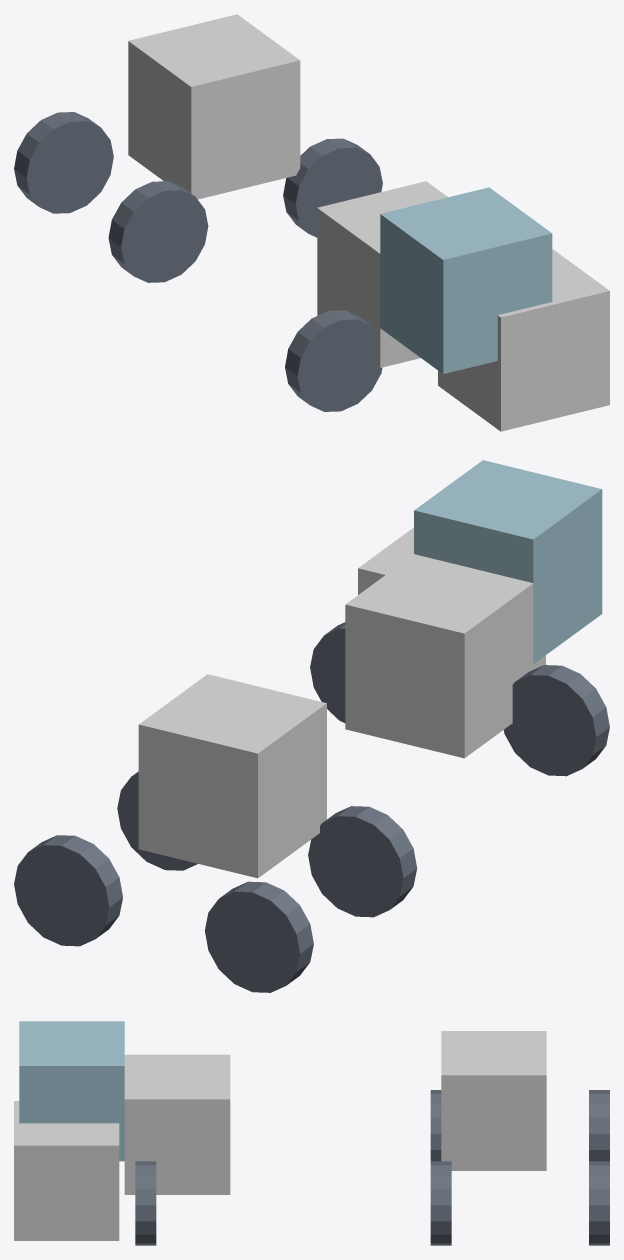
The model's file is veh_truck_delivery.glb.
3 views of the same model, one above another, from view 1: azimuth 30°, elevation 25°; view 2: azimuth 150°, elevation 25°; view 3: azimuth 270°, elevation 25° (orthographic). The views are drawn at different scales.
Parts seen in each view (by area): view 1: world; view 2: world; view 3: world.
Boxes of the visible parts, <box> form: world: <box>14,14,609,431</box>; world: <box>14,460,609,992</box>; world: <box>14,1021,609,1245</box>.
Size of the model in its own units: 2.4 by 1.7 by 5.65.
